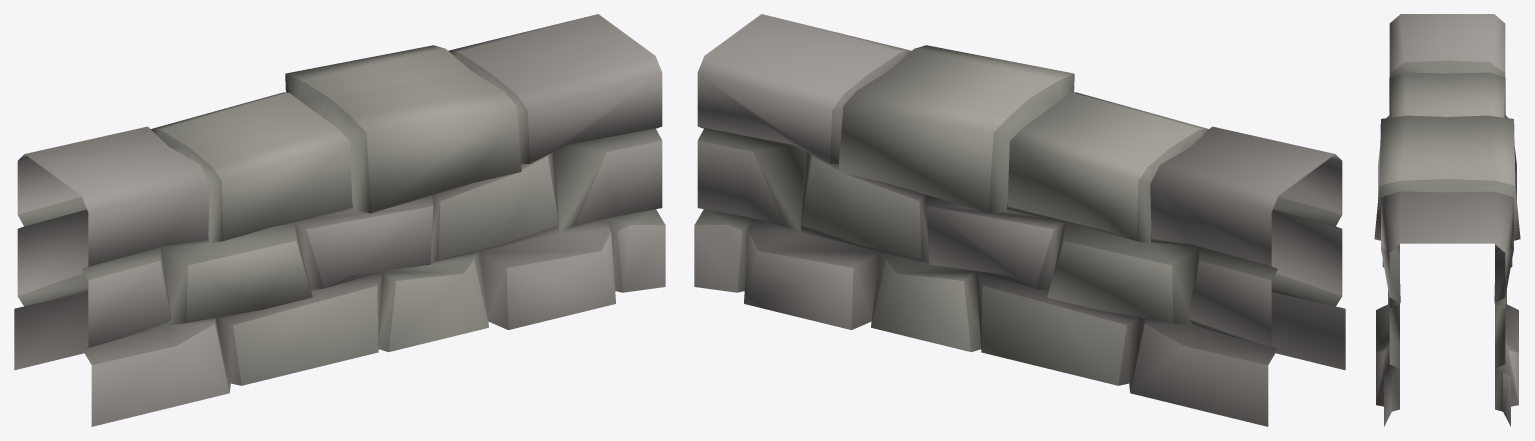
File: rpgpp_ag_basement_01_3x1.fbx
The picture shows the model from 3 angles, left to right: view 1: azimuth 30°, elevation 25°; view 2: azimuth 150°, elevation 25°; view 3: azimuth 270°, elevation 25°; orthographic projection. The views are drawn at different scales.
Parts seen in each view (by area): view 1: rpgpp_ag_basement_01_3x1; view 2: rpgpp_ag_basement_01_3x1; view 3: rpgpp_ag_basement_01_3x1.
Boxes of the visible parts, x1,y1,x2,y2 form: rpgpp_ag_basement_01_3x1: (14,14,665,426); rpgpp_ag_basement_01_3x1: (694,14,1345,426); rpgpp_ag_basement_01_3x1: (1374,14,1520,426).
Bounding box in the file's own units: 3 × 1.16 × 0.8068.
